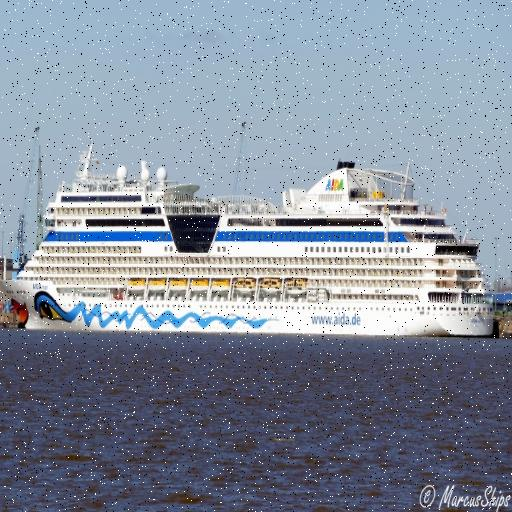cruises: (3, 130, 502, 343)
